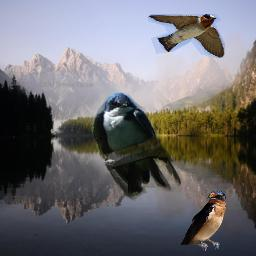Swallow: (90, 90, 185, 204), (148, 14, 225, 58), (179, 190, 226, 251)
